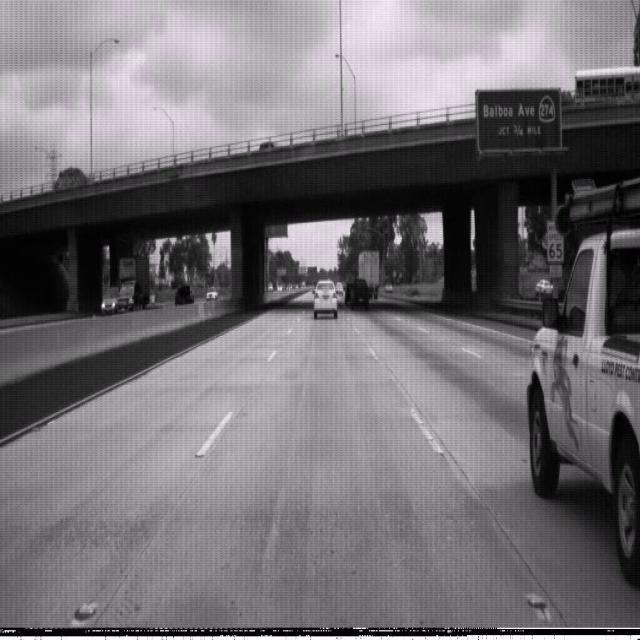speedLimit65: (546, 217, 565, 264)
